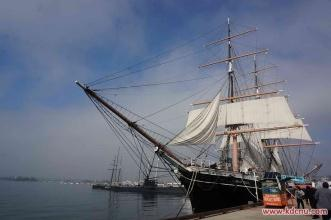fanchuan: (74, 14, 318, 202)
